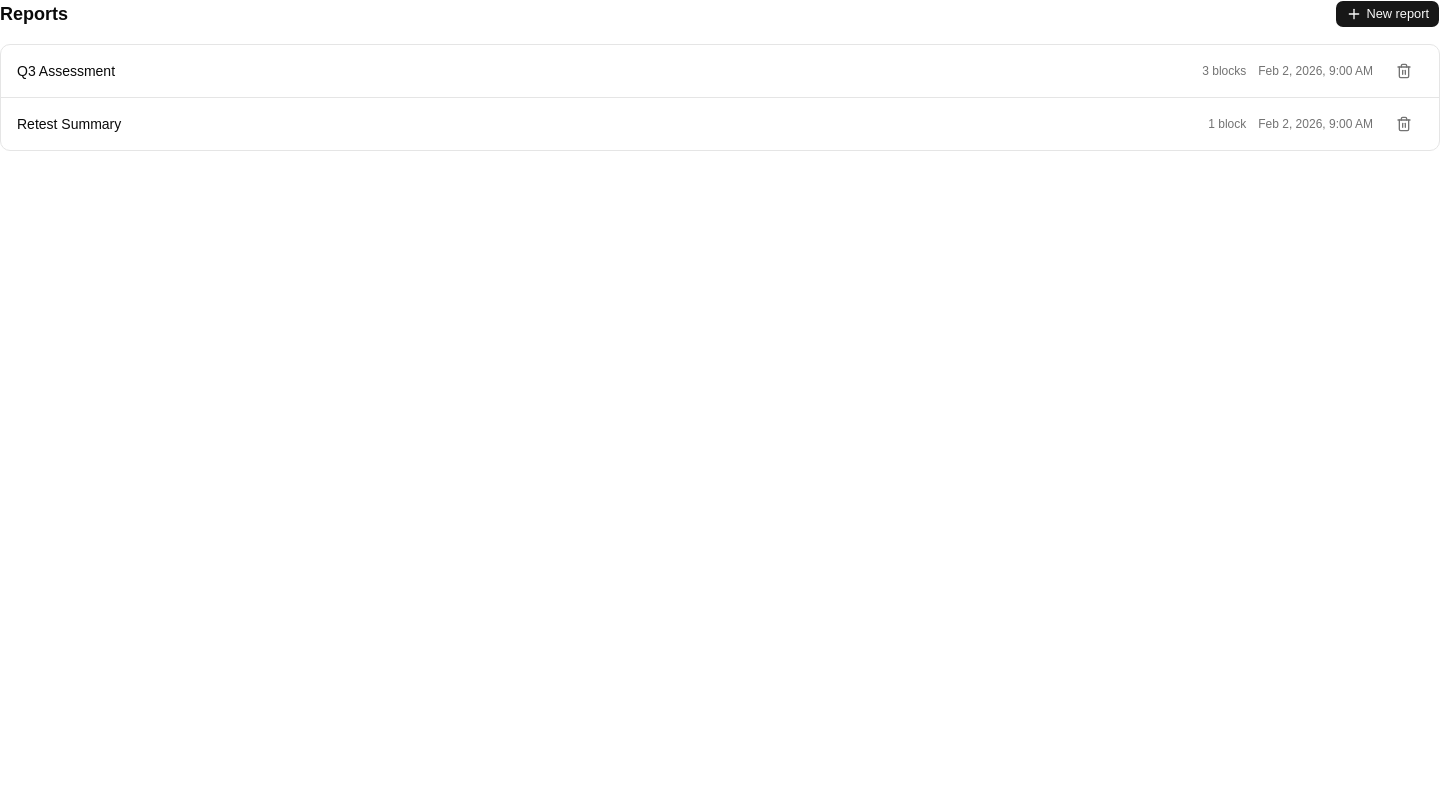
ReportsPage › deletes a report and drops it from the list
Step 1. Click the button named "Delete Q3 Assessment" → (1404, 71), box [1385,57,1423,85]
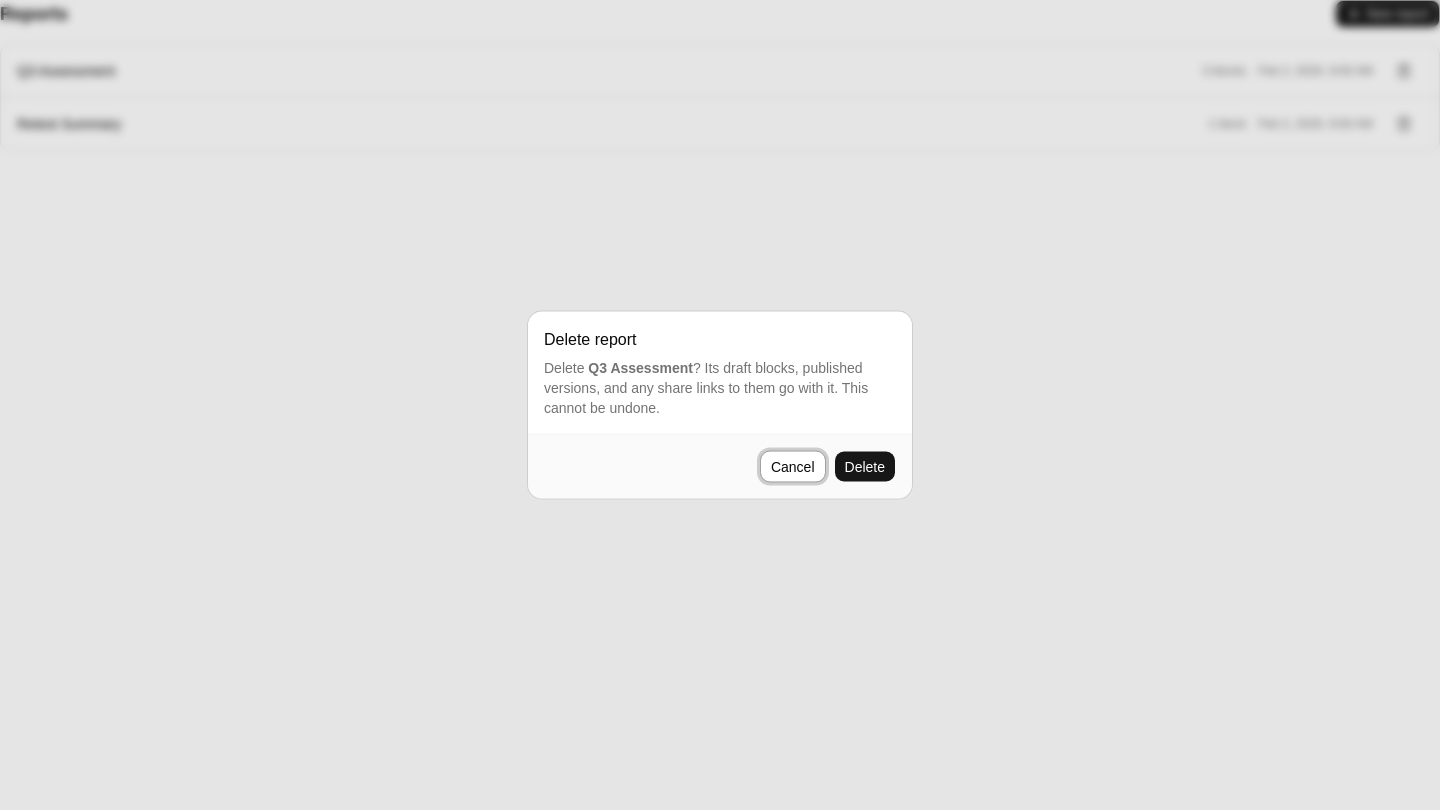
Step 2. Click the button "Delete" → (865, 466), box [834,450,896,482]
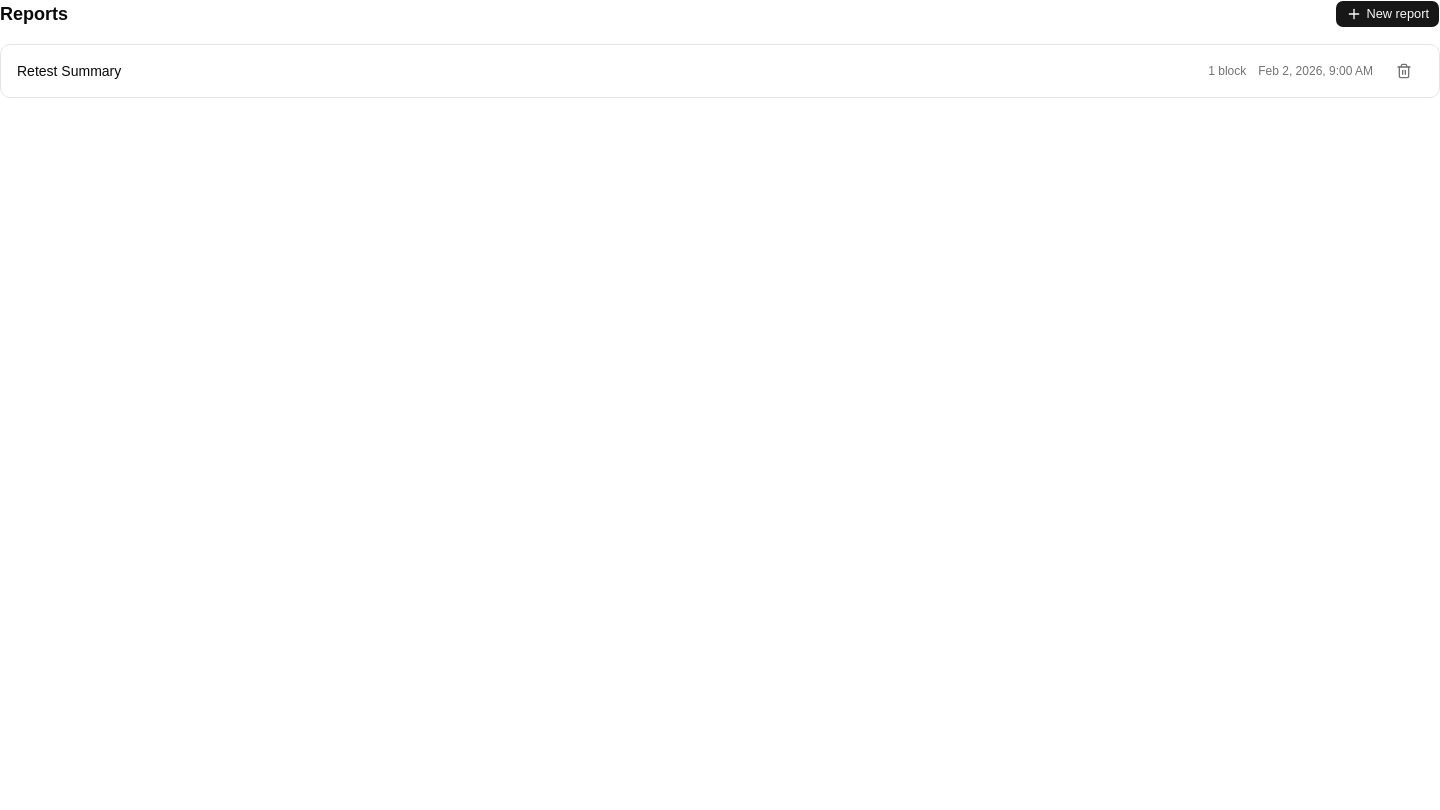
Expected: the link "Retest Summary" is shown, [17,63,121,79]
Now the dialog is gone
Now the link "Q3 Assessment" is gone
